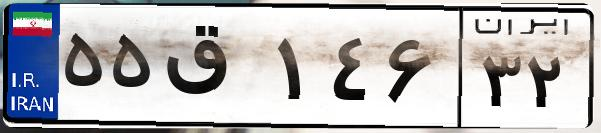1: (270, 28, 330, 110)
2: (525, 38, 570, 115)
3: (475, 38, 525, 113)
4: (330, 28, 385, 110)
5: (57, 26, 110, 100), (110, 28, 158, 98)
6: (385, 28, 445, 110)
ق: (158, 20, 270, 120)
